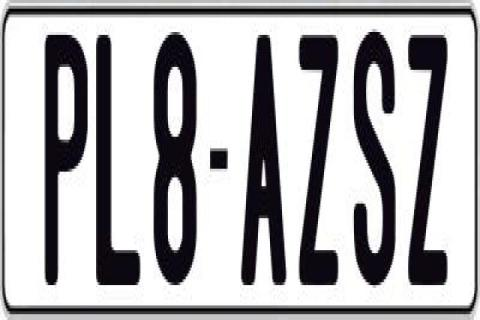0: (154, 29, 200, 288)
A: (241, 32, 288, 288)
L: (94, 32, 142, 288)
P: (42, 35, 86, 299)
S: (354, 32, 398, 288)
Z: (406, 26, 450, 294), (296, 35, 338, 291)
